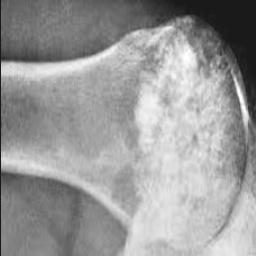cancer: (132, 20, 246, 248)
